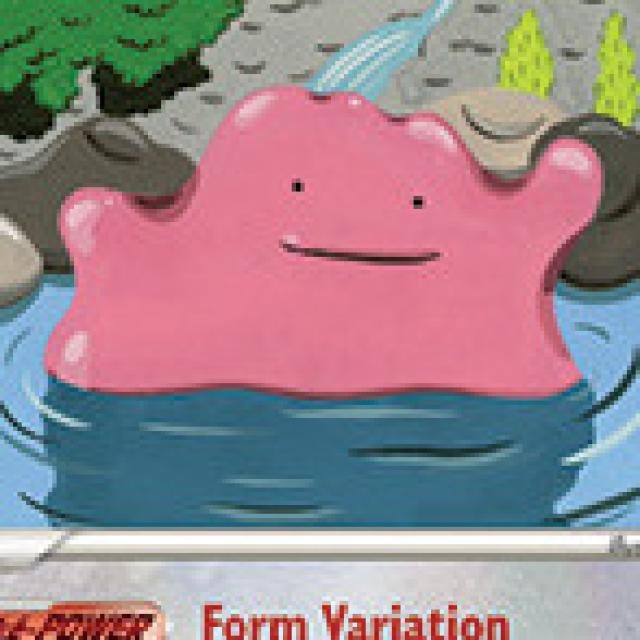Ditto: (50, 76, 606, 404)
